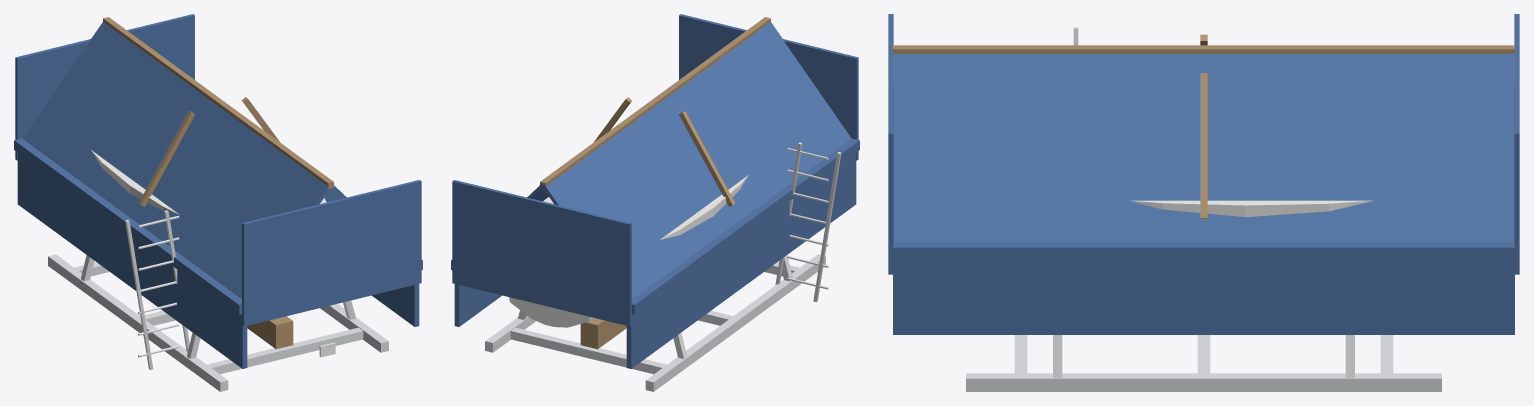
Rendered from marina-and-yacht-club-marina-and-yacht-club-boat-under-af9a5229__38316.glb.
The picture shows the model from 3 angles, left to right: view 1: azimuth 30°, elevation 25°; view 2: azimuth 150°, elevation 25°; view 3: azimuth 270°, elevation 25°; orthographic projection. The views are drawn at different scales.
Visible parts, largest first — view 1: marina-and-yacht-club-boat-under-cover; view 2: marina-and-yacht-club-boat-under-cover; view 3: marina-and-yacht-club-boat-under-cover.
Part boxes in pixels (x1,y1,x2,y2): marina-and-yacht-club-boat-under-cover: (14, 14, 422, 391); marina-and-yacht-club-boat-under-cover: (451, 14, 859, 391); marina-and-yacht-club-boat-under-cover: (888, 14, 1519, 391).
Size of the model in its own units: 4.02 by 3.47 by 6.9.
